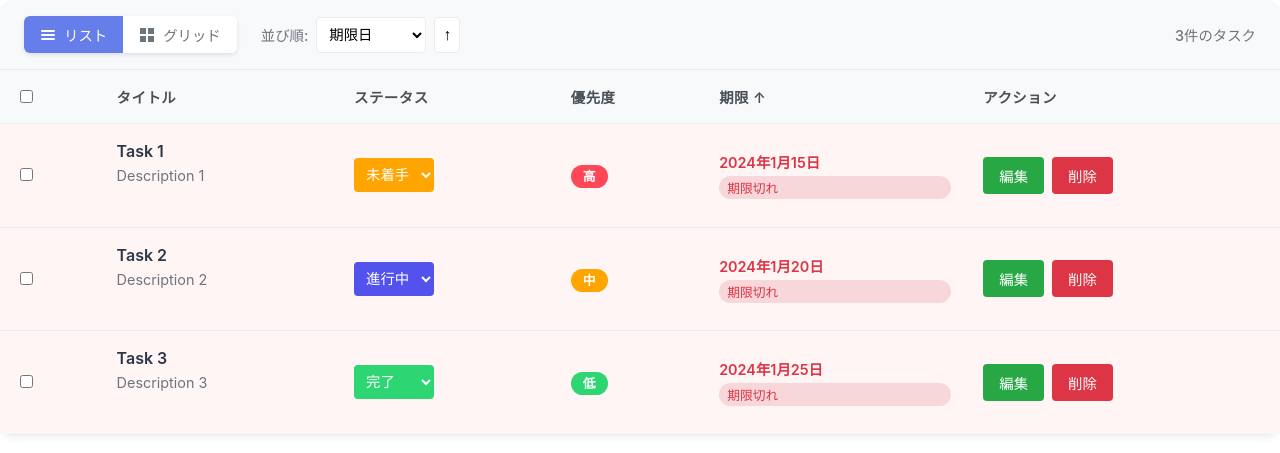
Test case: TaskList Component › sorts tasks by different criteria
The width and height of the screenshot is (1280, 453).
// Test sorting by priority
Select "優先度" in the dropdown showing "期限日" next to "並び順:": [371, 34] box [316,16,426,52]
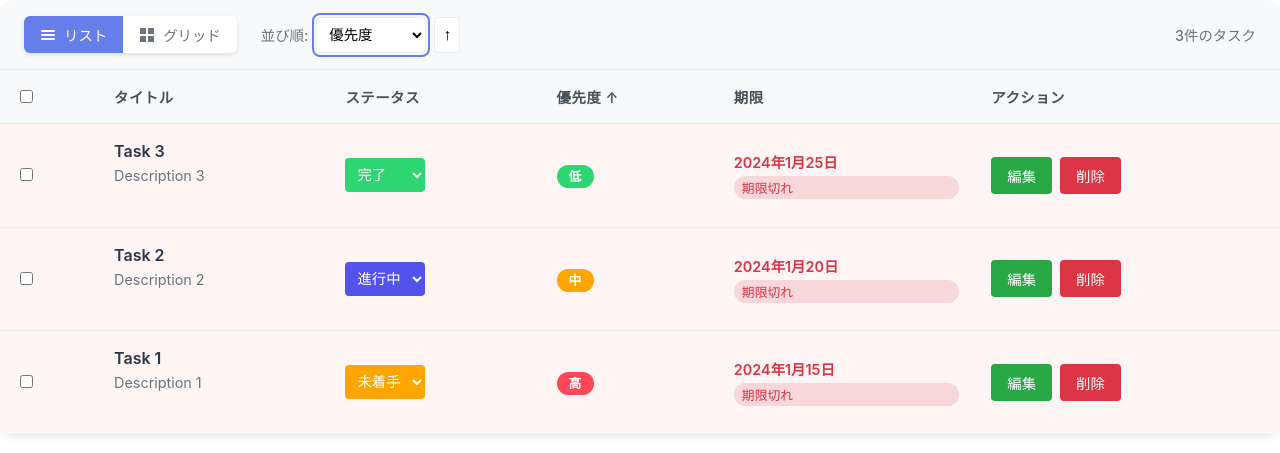
// Click sort order button
Click the button "↑": [447, 34] box [434,16,460,52]
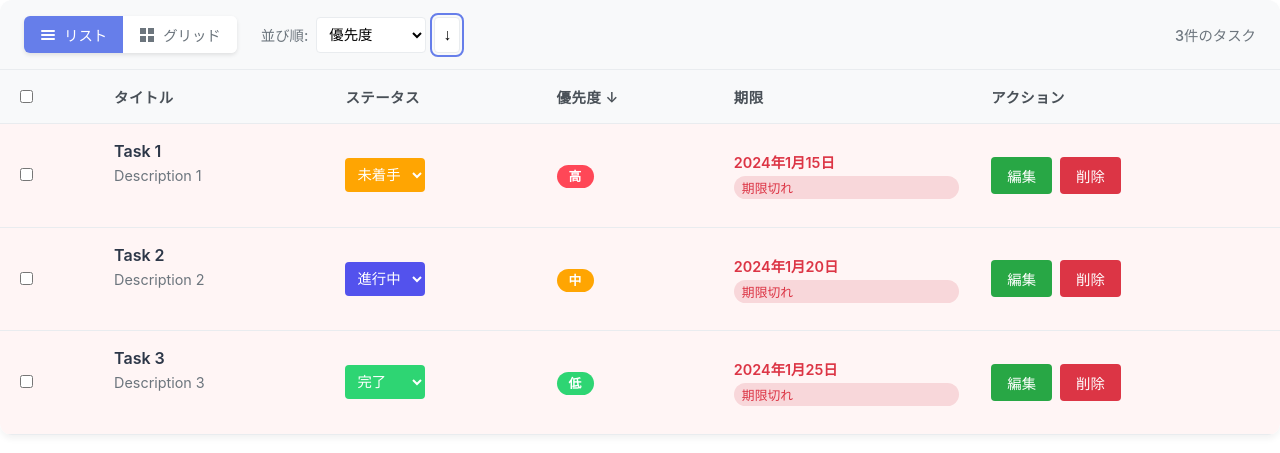
Now the button "↓" is shown, box [434,16,460,52]
